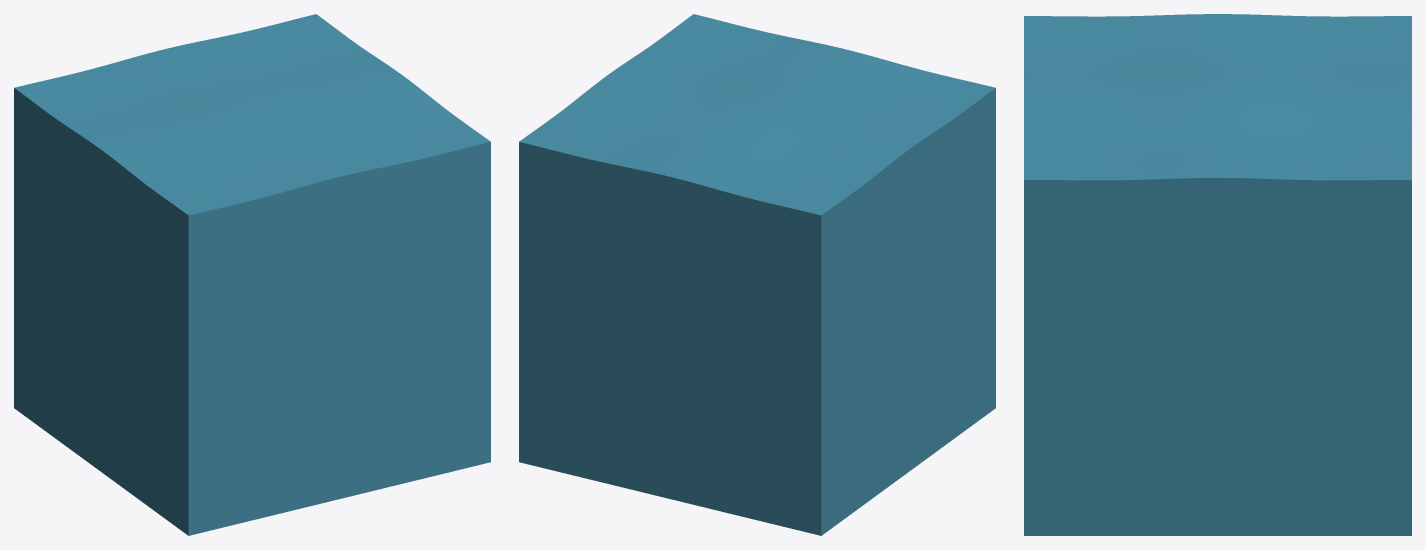
Rendered from slpool_wave09.glb.
3 renders of one model, left to right at view 1: azimuth 30°, elevation 25°; view 2: azimuth 150°, elevation 25°; view 3: azimuth 270°, elevation 25°, orthographic. The views are drawn at different scales.
Parts seen in each view (by area): view 1: poolWater; view 2: poolWater; view 3: poolWater.
Boxes of the visible parts, x1,y1,x2,y2 form: poolWater: (14,14,490,535); poolWater: (519,14,995,535); poolWater: (1024,14,1411,535).
Bounding box in the file's own units: 2 × 2.05 × 2.
